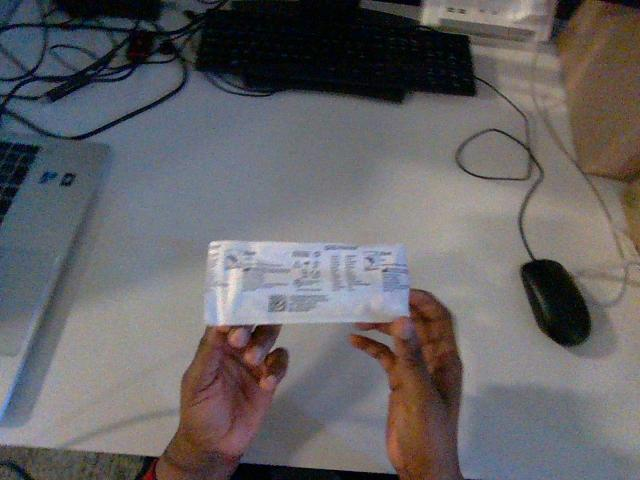syringe: (205, 241, 409, 324)
